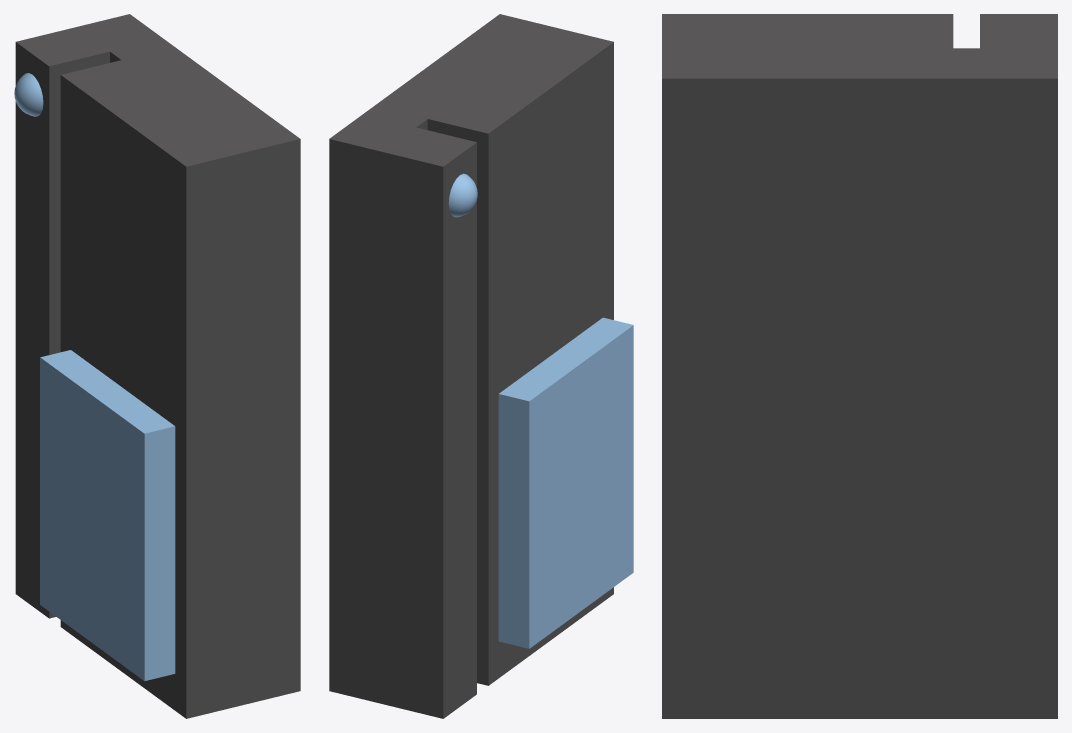
The model's file is keycard_scanner.fbx.
3 views of the same model, side by side, from view 1: azimuth 30°, elevation 25°; view 2: azimuth 150°, elevation 25°; view 3: azimuth 270°, elevation 25° (orthographic). The views are drawn at different scales.
Parts seen in each view (by area): view 1: pSphere2; view 2: pSphere2; view 3: pSphere2.
Part boxes in pixels (x1,y1,x2,y2): pSphere2: (14, 14, 300, 718); pSphere2: (329, 14, 633, 718); pSphere2: (662, 14, 1057, 718).
Bounding box in the file's own units: 22.06 × 80.29 × 44.99.
